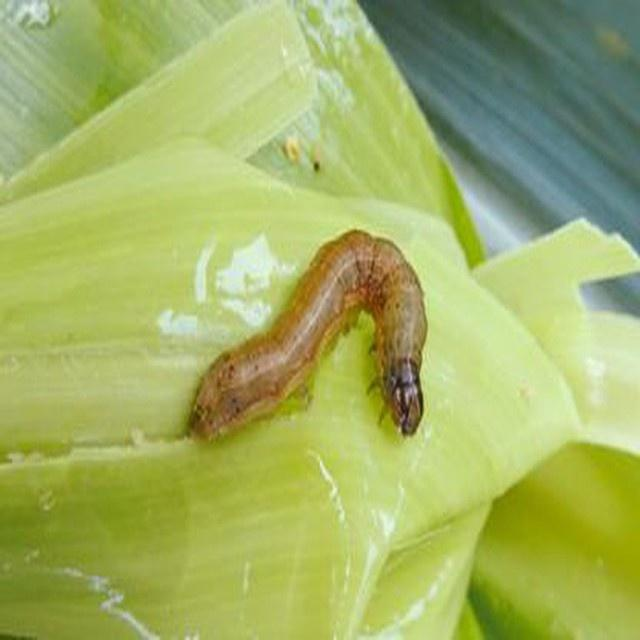Plaga: (185, 228, 433, 451)
